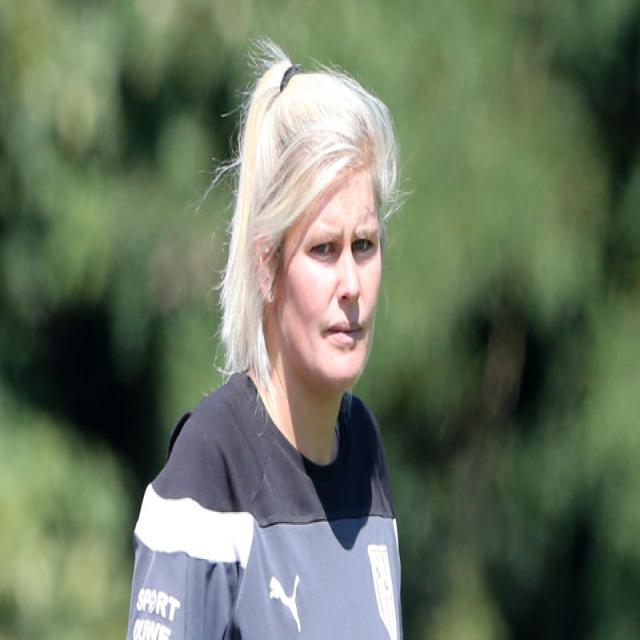human: (122, 32, 408, 640)
